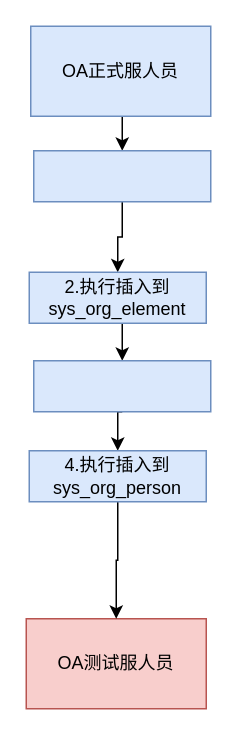
This 237x735 diagram has some shape labels left out. The centre of each missing label's shape, as x and y in pixels:
"1.执行插入到hr_org_element" belongs at point (121, 175).
"3.执行插入到hr_staff_person_info" belongs at point (121, 385).
